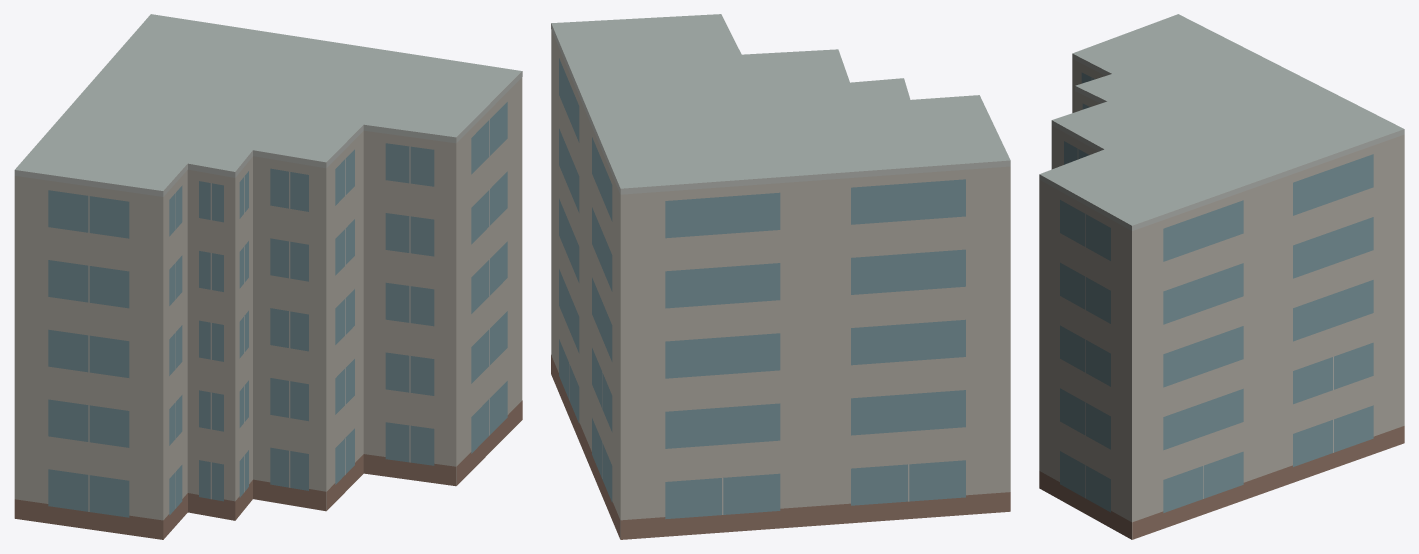
File: survey-upis-32992201.glb
3 renders of one model, left to right at view 1: azimuth 30°, elevation 25°; view 2: azimuth 150°, elevation 25°; view 3: azimuth 270°, elevation 25°, orthographic. The views are drawn at different scales.
Visible parts, largest first — view 1: survey-upis-32992201.tmp; view 2: survey-upis-32992201.tmp; view 3: survey-upis-32992201.tmp.
Boxes of the visible parts, box(x1,y1,x2,y2) form: survey-upis-32992201.tmp: box(14, 14, 522, 539); survey-upis-32992201.tmp: box(551, 14, 1010, 539); survey-upis-32992201.tmp: box(1039, 14, 1404, 539).
Bounding box in the file's own units: 20.69 × 14.3 × 15.08.
